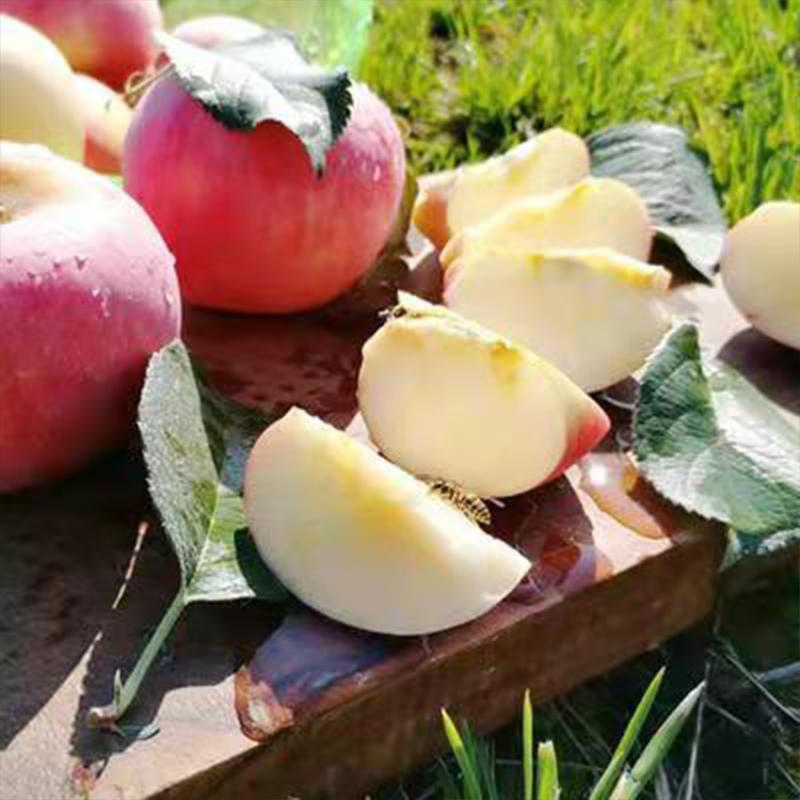apple: (124, 53, 414, 328), (1, 129, 183, 494)
